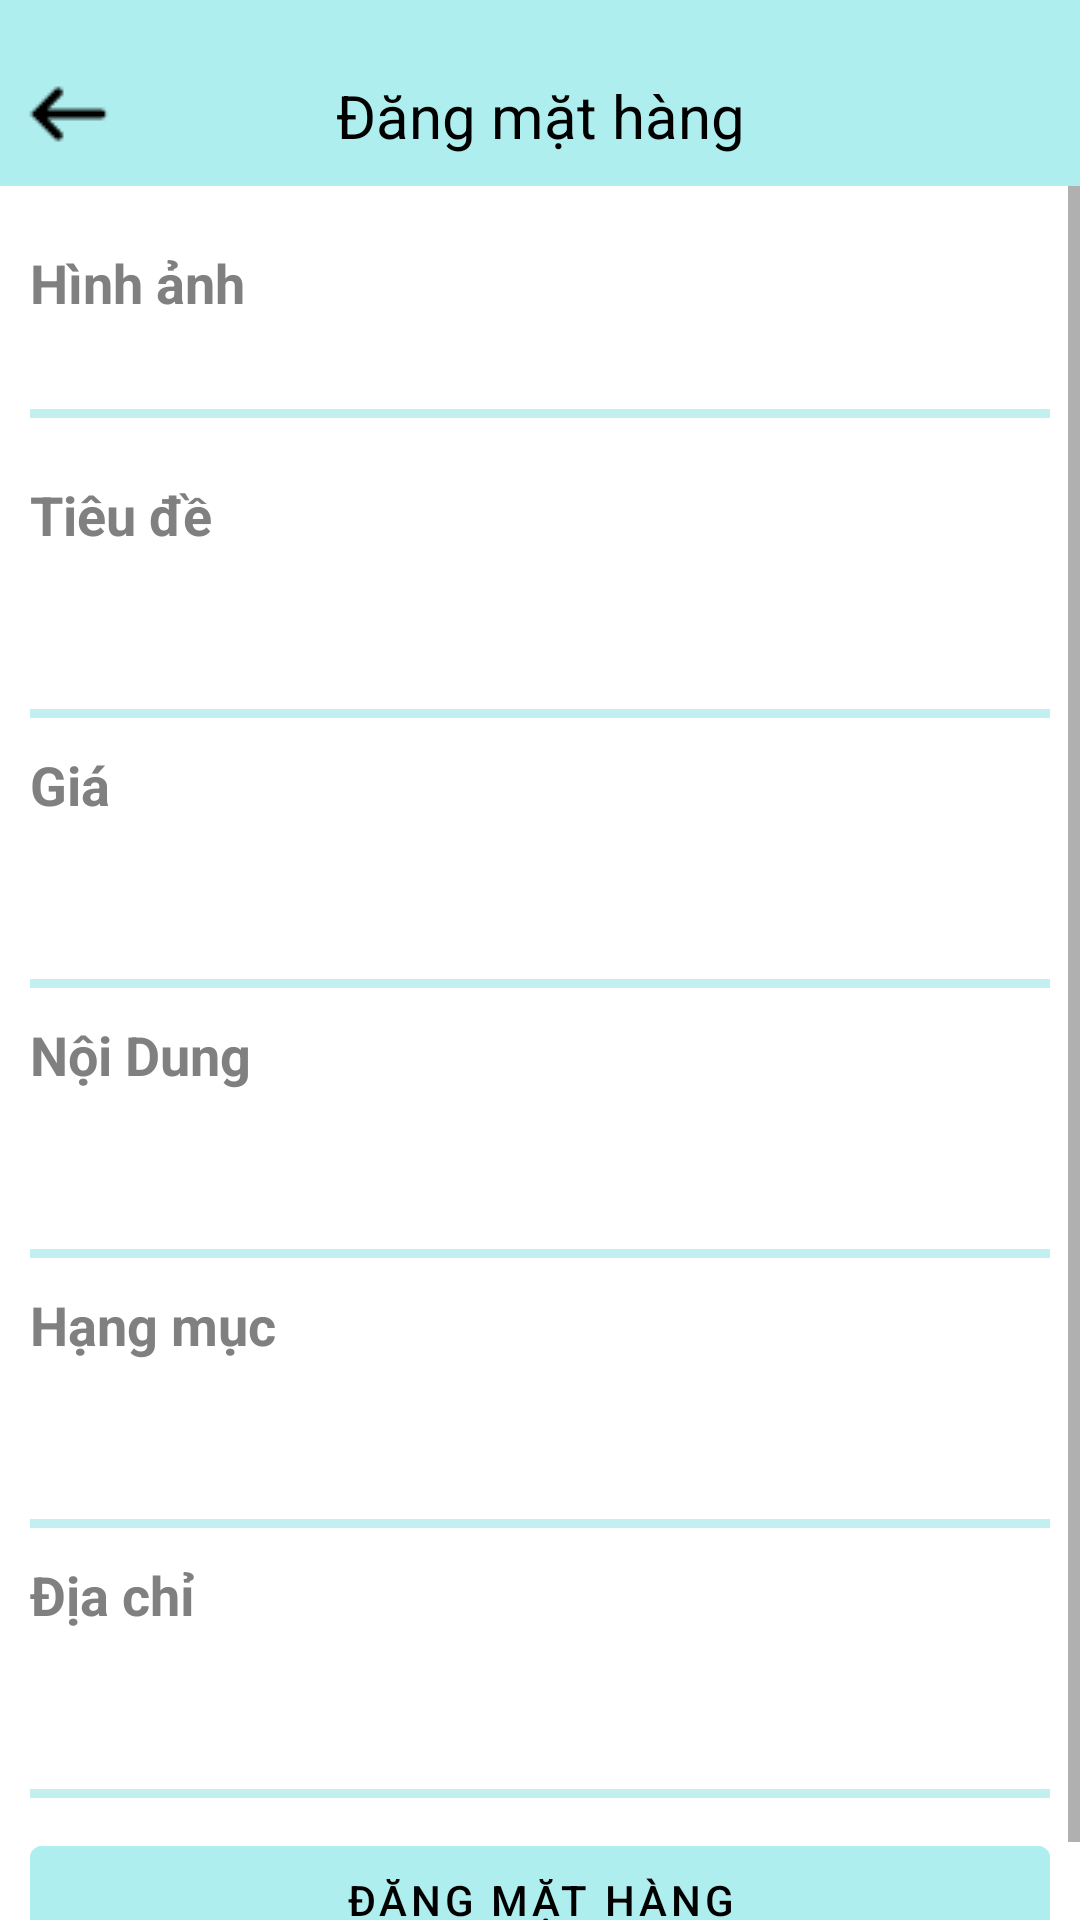

Icons on this 1080w x 1920h Android screen, each with its box as bbox=[x1, y1, x2, y2]:
back: bbox=[30, 86, 107, 142]
